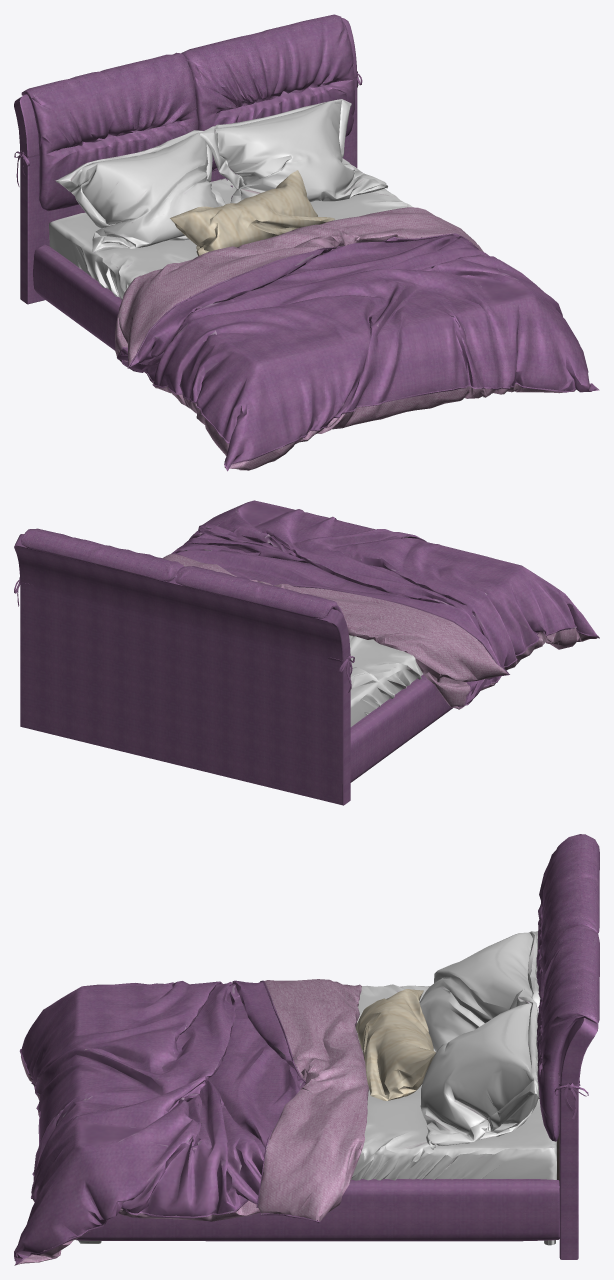
Rendered from raw_model.obj.
3 views of the same model, one above another, from view 1: azimuth 30°, elevation 25°; view 2: azimuth 150°, elevation 25°; view 3: azimuth 270°, elevation 25° (orthographic). The views are drawn at different scales.
Visible parts, largest first — view 1: solid_002, solid_005, solid_003, solid_004, solid_006; view 2: solid_005, solid_002, solid_004, solid_003; view 3: solid_002, solid_005, solid_003, solid_004, solid_006.
Boxes of the visible parts, <box> form: solid_002: <box>117,233,599,471</box>; solid_005: <box>14,14,421,373</box>; solid_003: <box>49,99,412,299</box>; solid_004: <box>115,207,596,470</box>; solid_006: <box>170,170,335,255</box>; solid_005: <box>14,528,452,805</box>; solid_002: <box>171,500,599,707</box>; solid_004: <box>162,554,597,709</box>; solid_003: <box>349,615,474,726</box>; solid_002: <box>14,980,320,1265</box>; solid_005: <box>76,834,599,1259</box>; solid_003: <box>351,931,556,1180</box>; solid_004: <box>17,979,368,1264</box>; solid_006: <box>355,989,435,1100</box>.
Bounding box in the file's own units: 2.15 × 1.11 × 2.42.
Materials: 1 (1 with a texture image).
